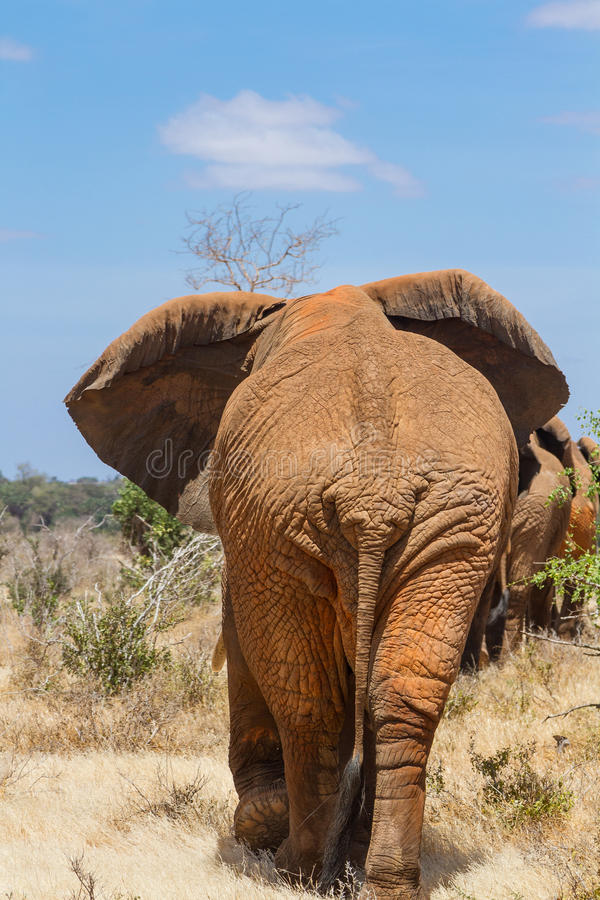elephant: (52, 265, 569, 900)
